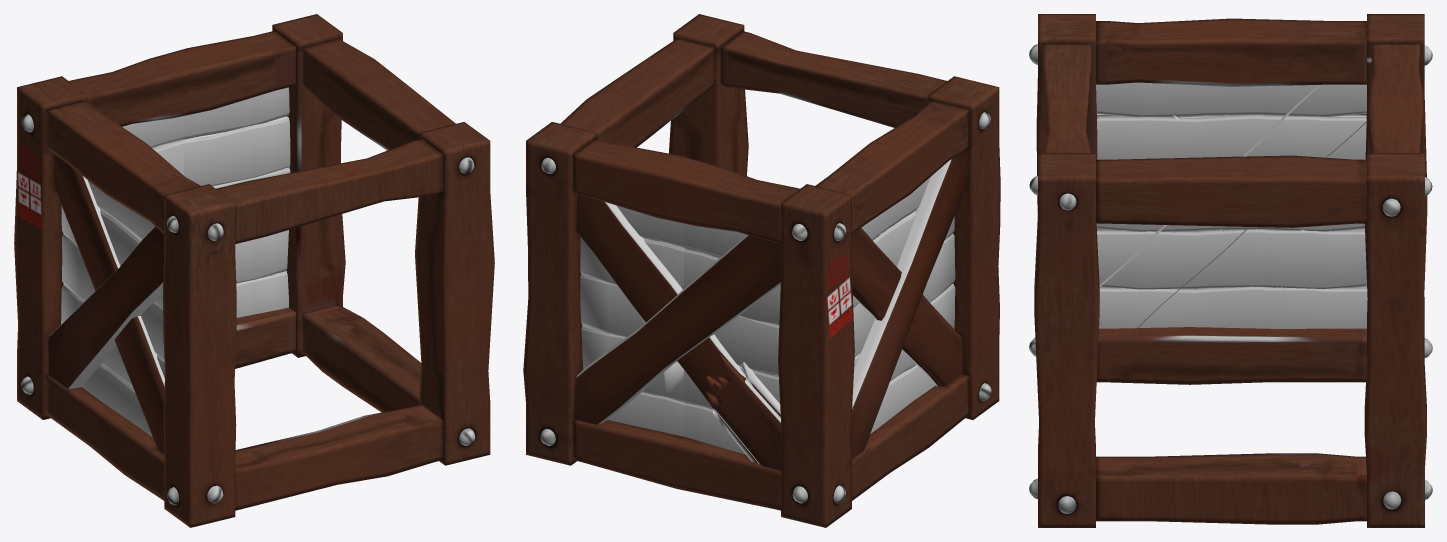
The model's file is BoxRetouch_v3.fbx.
The picture shows the model from 3 angles, left to right: view 1: azimuth 30°, elevation 25°; view 2: azimuth 150°, elevation 25°; view 3: azimuth 270°, elevation 25°; orthographic projection. The views are drawn at different scales.
Parts seen in each view (by area): view 1: 00_ExVertical_Board 03, 00_ExVertical_Board 02, 00_Box_Crossed.001, 00_ExVertical_Board 04, 00_ExHorizontal_Board 09, 00_Box_Horizontal, 00_ExHorizontal_Board 02, 00_ExHorizontal_Board 04, 00_ExVertical_Board 01, 00_ExHorizontal_Board 01, 00_ExHorizontal_Board 05, 00_ExHorizontal_Board 06 (+8 smaller); view 2: 00_ExVertical_Board 04, 00_Box_Crossed, 00_ExVertical_Board 01, 00_Box_Crossed.001, 00_ExVertical_Board 03, 00_ExHorizontal_Board 02, 00_ExHorizontal_Board 04, 00_ExHorizontal_Board 07, 00_Brake_Hole, 00_ExHorizontal_Board 01, 00_ExHorizontal_Board 05, 00_Box_Horizontal (+8 smaller); view 3: 00_ExVertical_Board 02, 00_ExVertical_Board 01, 00_ExHorizontal_Board 06, 00_ExHorizontal_Board 05, 00_ExHorizontal_Board 01, 00_Interior_Board_01.004, 00_ExHorizontal_Board 08, 00_Interior_Board_01.001, 00_Interior_Board_01.003, 00_Interior_Board_01.002, 00_ExHorizontal_Board 02, 00_ExHorizontal_Board 04 (+4 smaller).
Boxes of the visible parts, x1,y1,x2,y2 form: 00_ExVertical_Board 03: (163, 184, 236, 527); 00_ExVertical_Board 02: (415, 122, 494, 465); 00_Box_Crossed.001: (48, 154, 164, 454); 00_ExVertical_Board 04: (14, 76, 87, 419); 00_ExHorizontal_Board 09: (235, 404, 443, 510); 00_Box_Horizontal: (155, 87, 290, 317); 00_ExHorizontal_Board 02: (69, 31, 295, 126); 00_ExHorizontal_Board 04: (216, 138, 443, 243); 00_ExVertical_Board 01: (272, 14, 345, 357); 00_ExHorizontal_Board 01: (47, 100, 200, 233); 00_ExHorizontal_Board 05: (302, 38, 455, 150); 00_ExHorizontal_Board 06: (302, 304, 421, 412); 00_ExVertical_Board 04: (778, 184, 854, 527); 00_Box_Crossed: (574, 194, 780, 424); 00_ExVertical_Board 01: (523, 122, 596, 465); 00_Box_Crossed.001: (851, 150, 967, 459); 00_ExVertical_Board 03: (928, 76, 1000, 419); 00_ExHorizontal_Board 02: (573, 138, 799, 243); 00_ExHorizontal_Board 04: (720, 31, 947, 127); 00_ExHorizontal_Board 07: (573, 419, 780, 510); 00_Brake_Hole: (580, 205, 684, 436); 00_ExHorizontal_Board 01: (815, 100, 969, 233); 00_ExHorizontal_Board 05: (560, 38, 714, 147); 00_Box_Horizontal: (680, 223, 780, 454); 00_ExVertical_Board 02: (1034, 153, 1099, 527); 00_ExVertical_Board 01: (1364, 153, 1426, 527); 00_ExHorizontal_Board 06: (1096, 453, 1366, 524); 00_ExHorizontal_Board 05: (1096, 155, 1366, 227); 00_ExHorizontal_Board 01: (1096, 18, 1366, 86); 00_Interior_Board_01.004: (1097, 229, 1366, 289); 00_ExHorizontal_Board 08: (1096, 327, 1366, 384); 00_Interior_Board_01.001: (1097, 114, 1366, 159); 00_Interior_Board_01.003: (1099, 286, 1367, 328); 00_Interior_Board_01.002: (1096, 82, 1366, 117); 00_ExHorizontal_Board 02: (1368, 43, 1422, 152); 00_ExHorizontal_Board 04: (1043, 43, 1090, 152).
Size of the model in its own units: 416 by 400 by 418.
